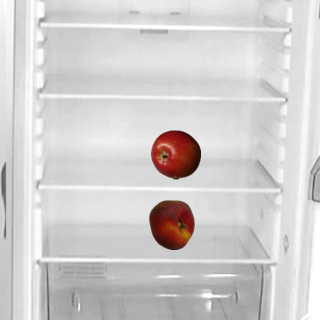Apple Braeburn: (150, 129, 200, 179)
Nectarine Flat: (146, 199, 196, 249)
